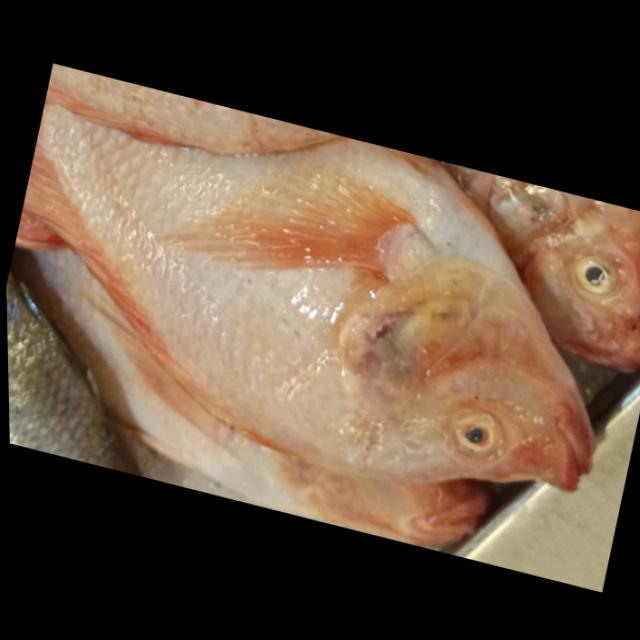Tilapia: (1, 61, 640, 532)
